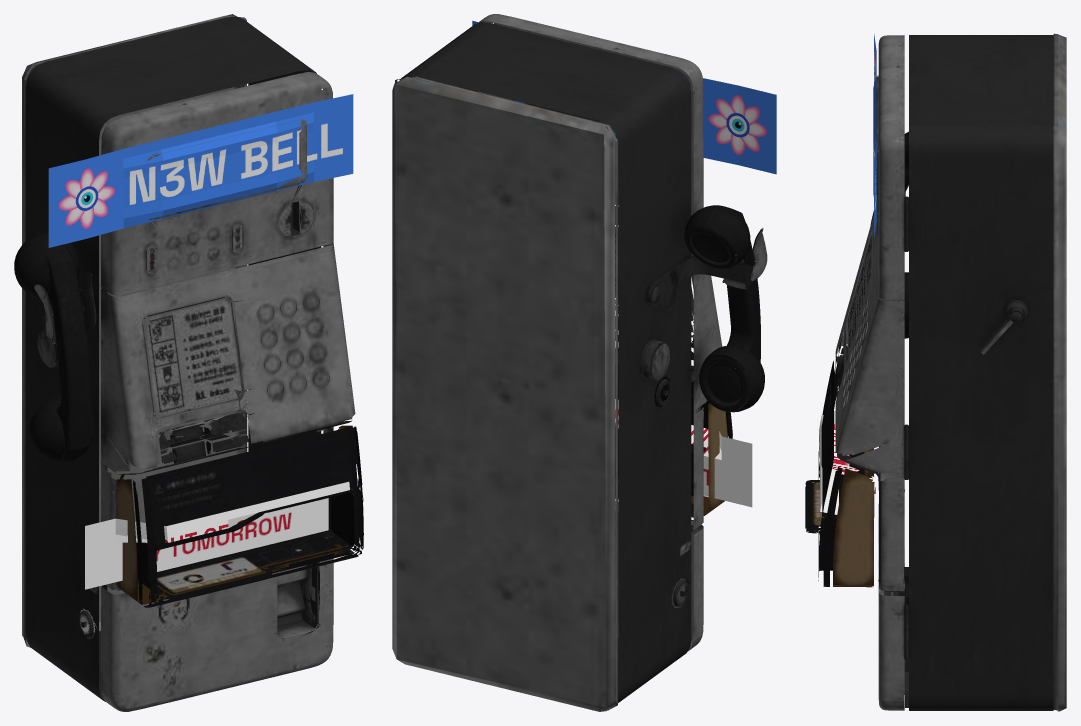
Rendered from nyb_afterhours_phone.glb.
3 views of the same model, side by side, from view 1: azimuth 30°, elevation 25°; view 2: azimuth 150°, elevation 25°; view 3: azimuth 270°, elevation 25° (orthographic).
Visible parts, largest first — view 1: korean_public_payphone_01, stk_lbl_4338517607.png, stk_lbl_9fcfd71ebd.png; view 2: korean_public_payphone_01, stk_lbl_4338517607.png, stk_lbl_9fcfd71ebd.png; view 3: korean_public_payphone_01, stk_lbl_9fcfd71ebd.png, stk_lbl_4338517607.png.
Part boxes in pixels (x1=…): korean_public_payphone_01: x1=14, y1=14, x2=363, y2=711; stk_lbl_4338517607.png: x1=48, y1=94, x2=353, y2=247; stk_lbl_9fcfd71ebd.png: x1=85, y1=481, x2=349, y2=589; korean_public_payphone_01: x1=392, y1=14, x2=767, y2=711; stk_lbl_4338517607.png: x1=472, y1=20, x2=776, y2=174; stk_lbl_9fcfd71ebd.png: x1=615, y1=399, x2=752, y2=507; korean_public_payphone_01: x1=805, y1=33, x2=1066, y2=711; stk_lbl_9fcfd71ebd.png: x1=819, y1=410, x2=859, y2=514; stk_lbl_4338517607.png: x1=873, y1=34, x2=876, y2=238.
Bounding box in the file's own units: 0.4006 × 0.7378 × 0.3002.
Materials: 3 (3 with a texture image).
